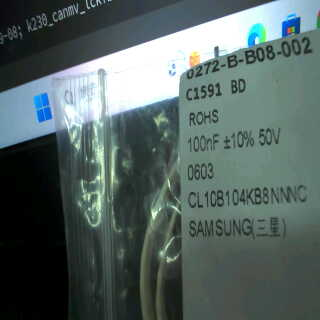100nF: (187, 129, 221, 154)
